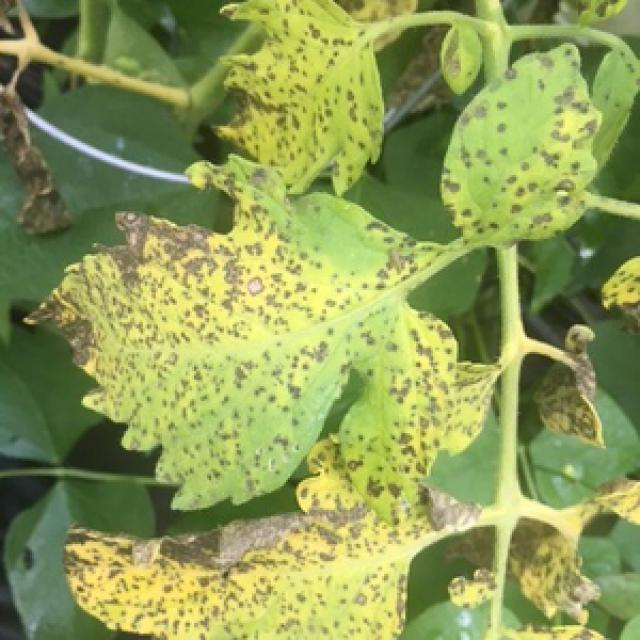Tomato leaf bacterial spot: (15, 159, 412, 516), (51, 499, 482, 640), (182, 2, 388, 209), (429, 34, 606, 269), (332, 294, 498, 514)
